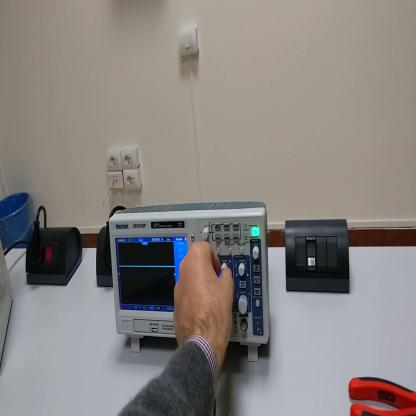hand: (172, 238, 235, 365)
oscilloscope: (109, 203, 271, 365)
pliers: (349, 375, 416, 415)
power supply: (1, 236, 14, 376)
socket: (26, 223, 85, 289), (96, 227, 115, 288)
